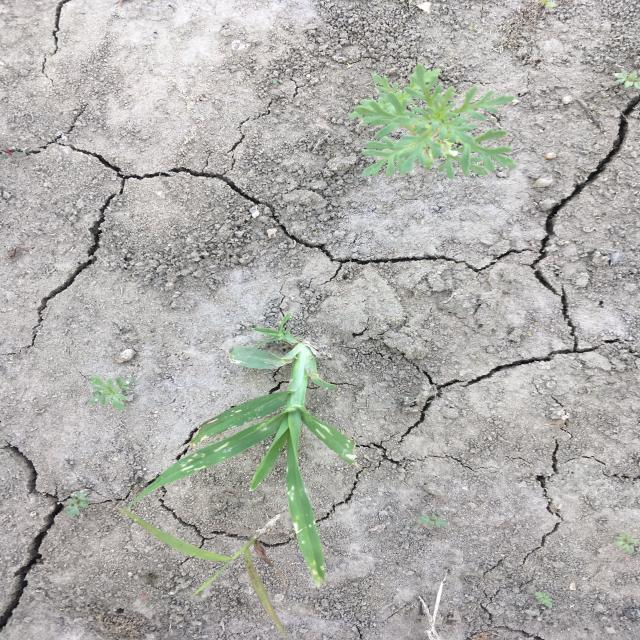Goosegrass: (121, 311, 363, 589)
Ragweed: (346, 61, 522, 182), (85, 373, 136, 411)
